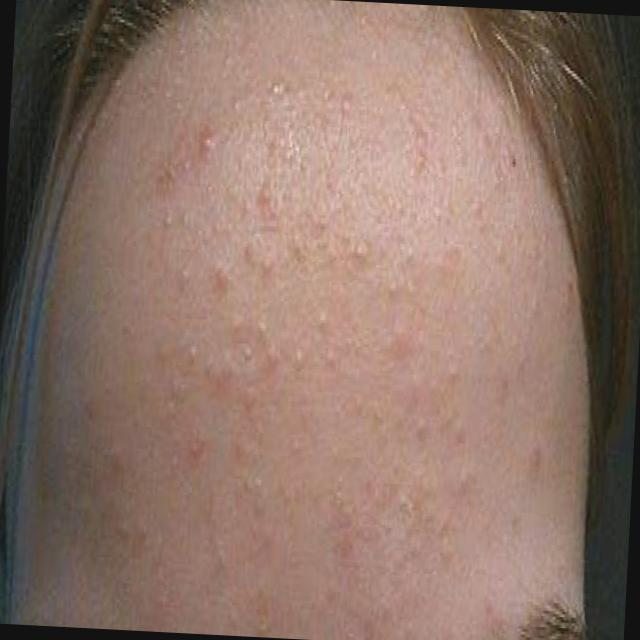fungal: (115, 92, 502, 618)
